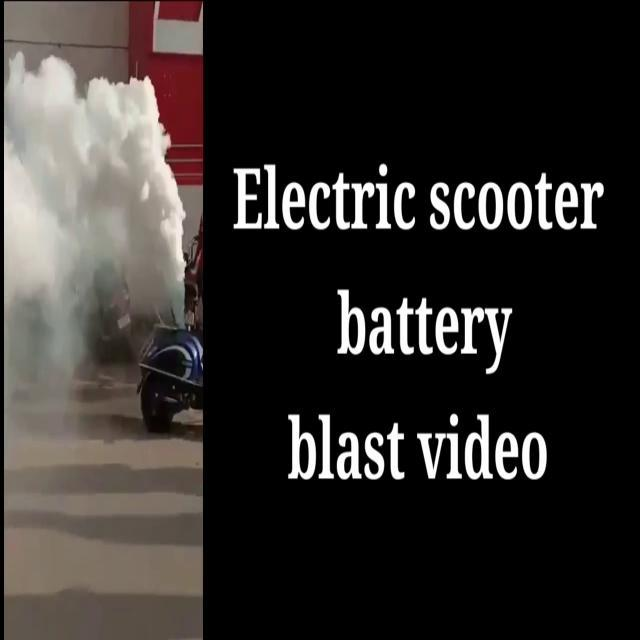Smoke: (3, 41, 191, 424)
